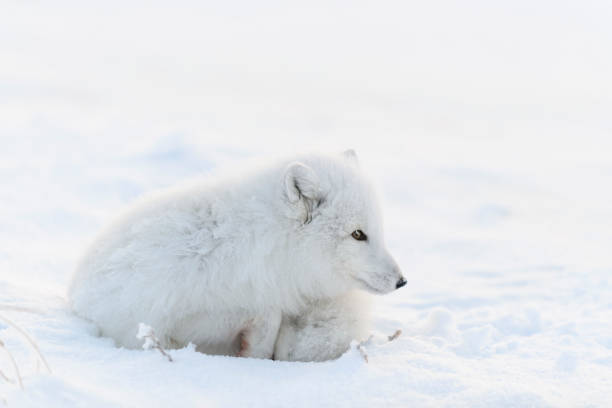arcticfox: (302, 171, 407, 310)
